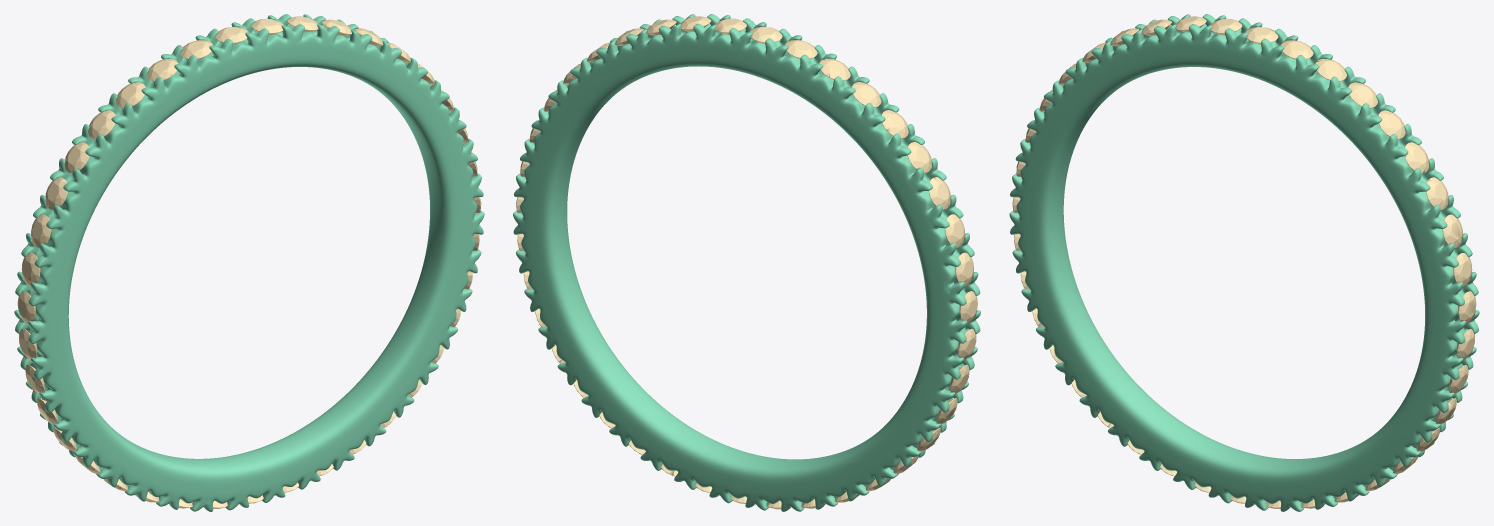
3 renders of one model, left to right at view 1: azimuth 30°, elevation 25°; view 2: azimuth 150°, elevation 25°; view 3: azimuth 330°, elevation 25°, orthographic.
Parts seen in each view (by area): view 1: Metal02, Diamond_Round.025, Diamond_Round.024, Diamond_Round.026, Diamond_Round.023; view 2: Metal02, Diamond_Round.024, Diamond_Round.025, Diamond_Round.026; view 3: Metal02, Diamond_Round.014, Diamond_Round.015, Diamond_Round.016, Diamond_Round.013.
Boxes of the visible parts, left/top/right/bottom form: Metal02: left=14, top=14, right=484, bottom=511; Diamond_Round.025: left=64, top=142, right=89, bottom=173; Diamond_Round.024: left=88, top=110, right=115, bottom=139; Diamond_Round.026: left=45, top=177, right=67, bottom=209; Diamond_Round.023: left=116, top=82, right=145, bottom=108; Metal02: left=513, top=14, right=980, bottom=511; Diamond_Round.024: left=881, top=110, right=908, bottom=138; Diamond_Round.025: left=907, top=142, right=931, bottom=172; Diamond_Round.026: left=928, top=177, right=950, bottom=209; Metal02: left=1009, top=14, right=1479, bottom=511; Diamond_Round.014: left=1404, top=142, right=1429, bottom=173; Diamond_Round.015: left=1378, top=110, right=1405, bottom=139; Diamond_Round.016: left=1348, top=82, right=1377, bottom=108; Diamond_Round.013: left=1426, top=177, right=1448, bottom=209.
Size of the model in its own units: 20.14 by 20.13 by 1.72.
